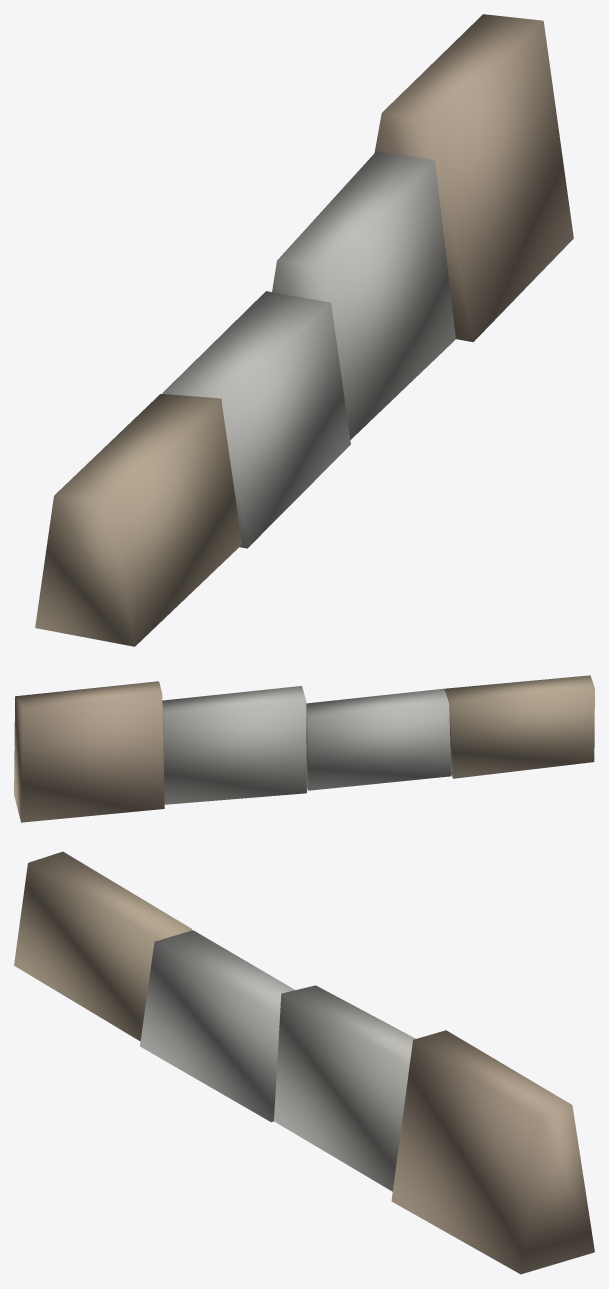
The model's file is farm_15_34_far.glb.
3 views of the same model, one above another, from view 1: azimuth 30°, elevation 25°; view 2: azimuth 150°, elevation 25°; view 3: azimuth 270°, elevation 25° (orthographic). The views are drawn at different scales.
Parts seen in each view (by area): view 1: geometry_0; view 2: geometry_0; view 3: geometry_0.
Part boxes in pixels (bbox=[...]): geometry_0: bbox=[35, 14, 573, 646]; geometry_0: bbox=[14, 675, 594, 822]; geometry_0: bbox=[14, 851, 594, 1274].
Size of the model in its own units: 5.34 by 1.36 by 4.44.
